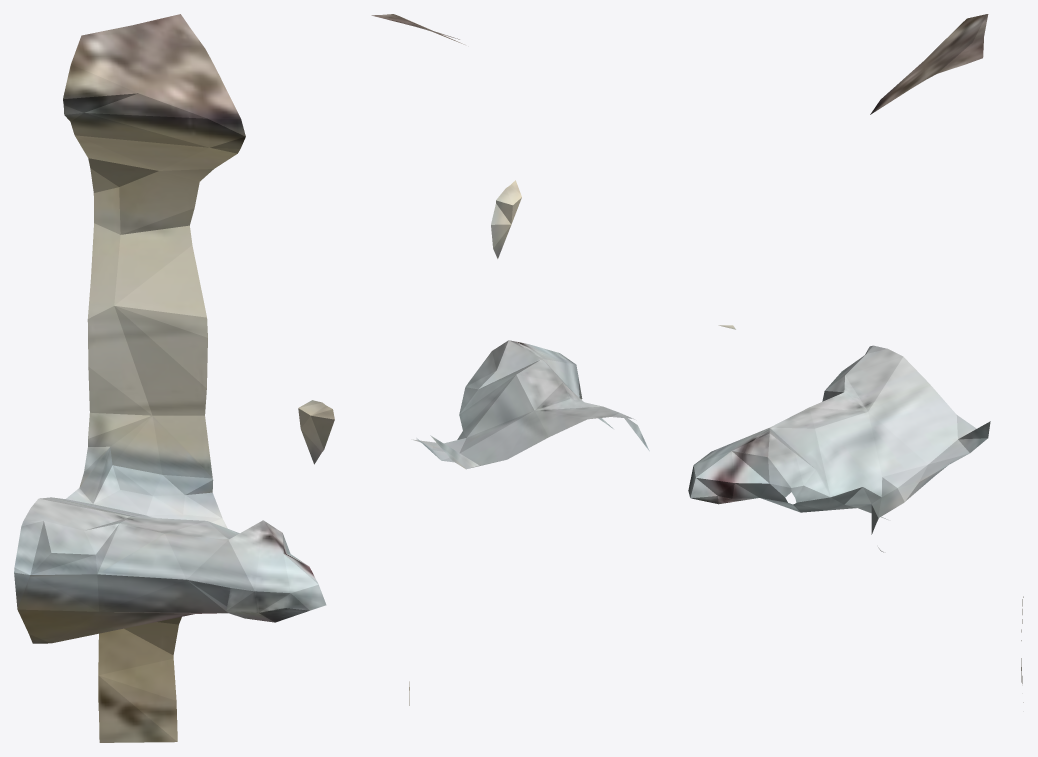
3 renders of one model, left to right at view 1: azimuth 30°, elevation 25°; view 2: azimuth 150°, elevation 25°; view 3: azimuth 270°, elevation 25°, orthographic. The views are drawn at different scales.
Size of the model in its own units: 1.13 by 3.35 by 1.49.
1 material, 1 textured.
